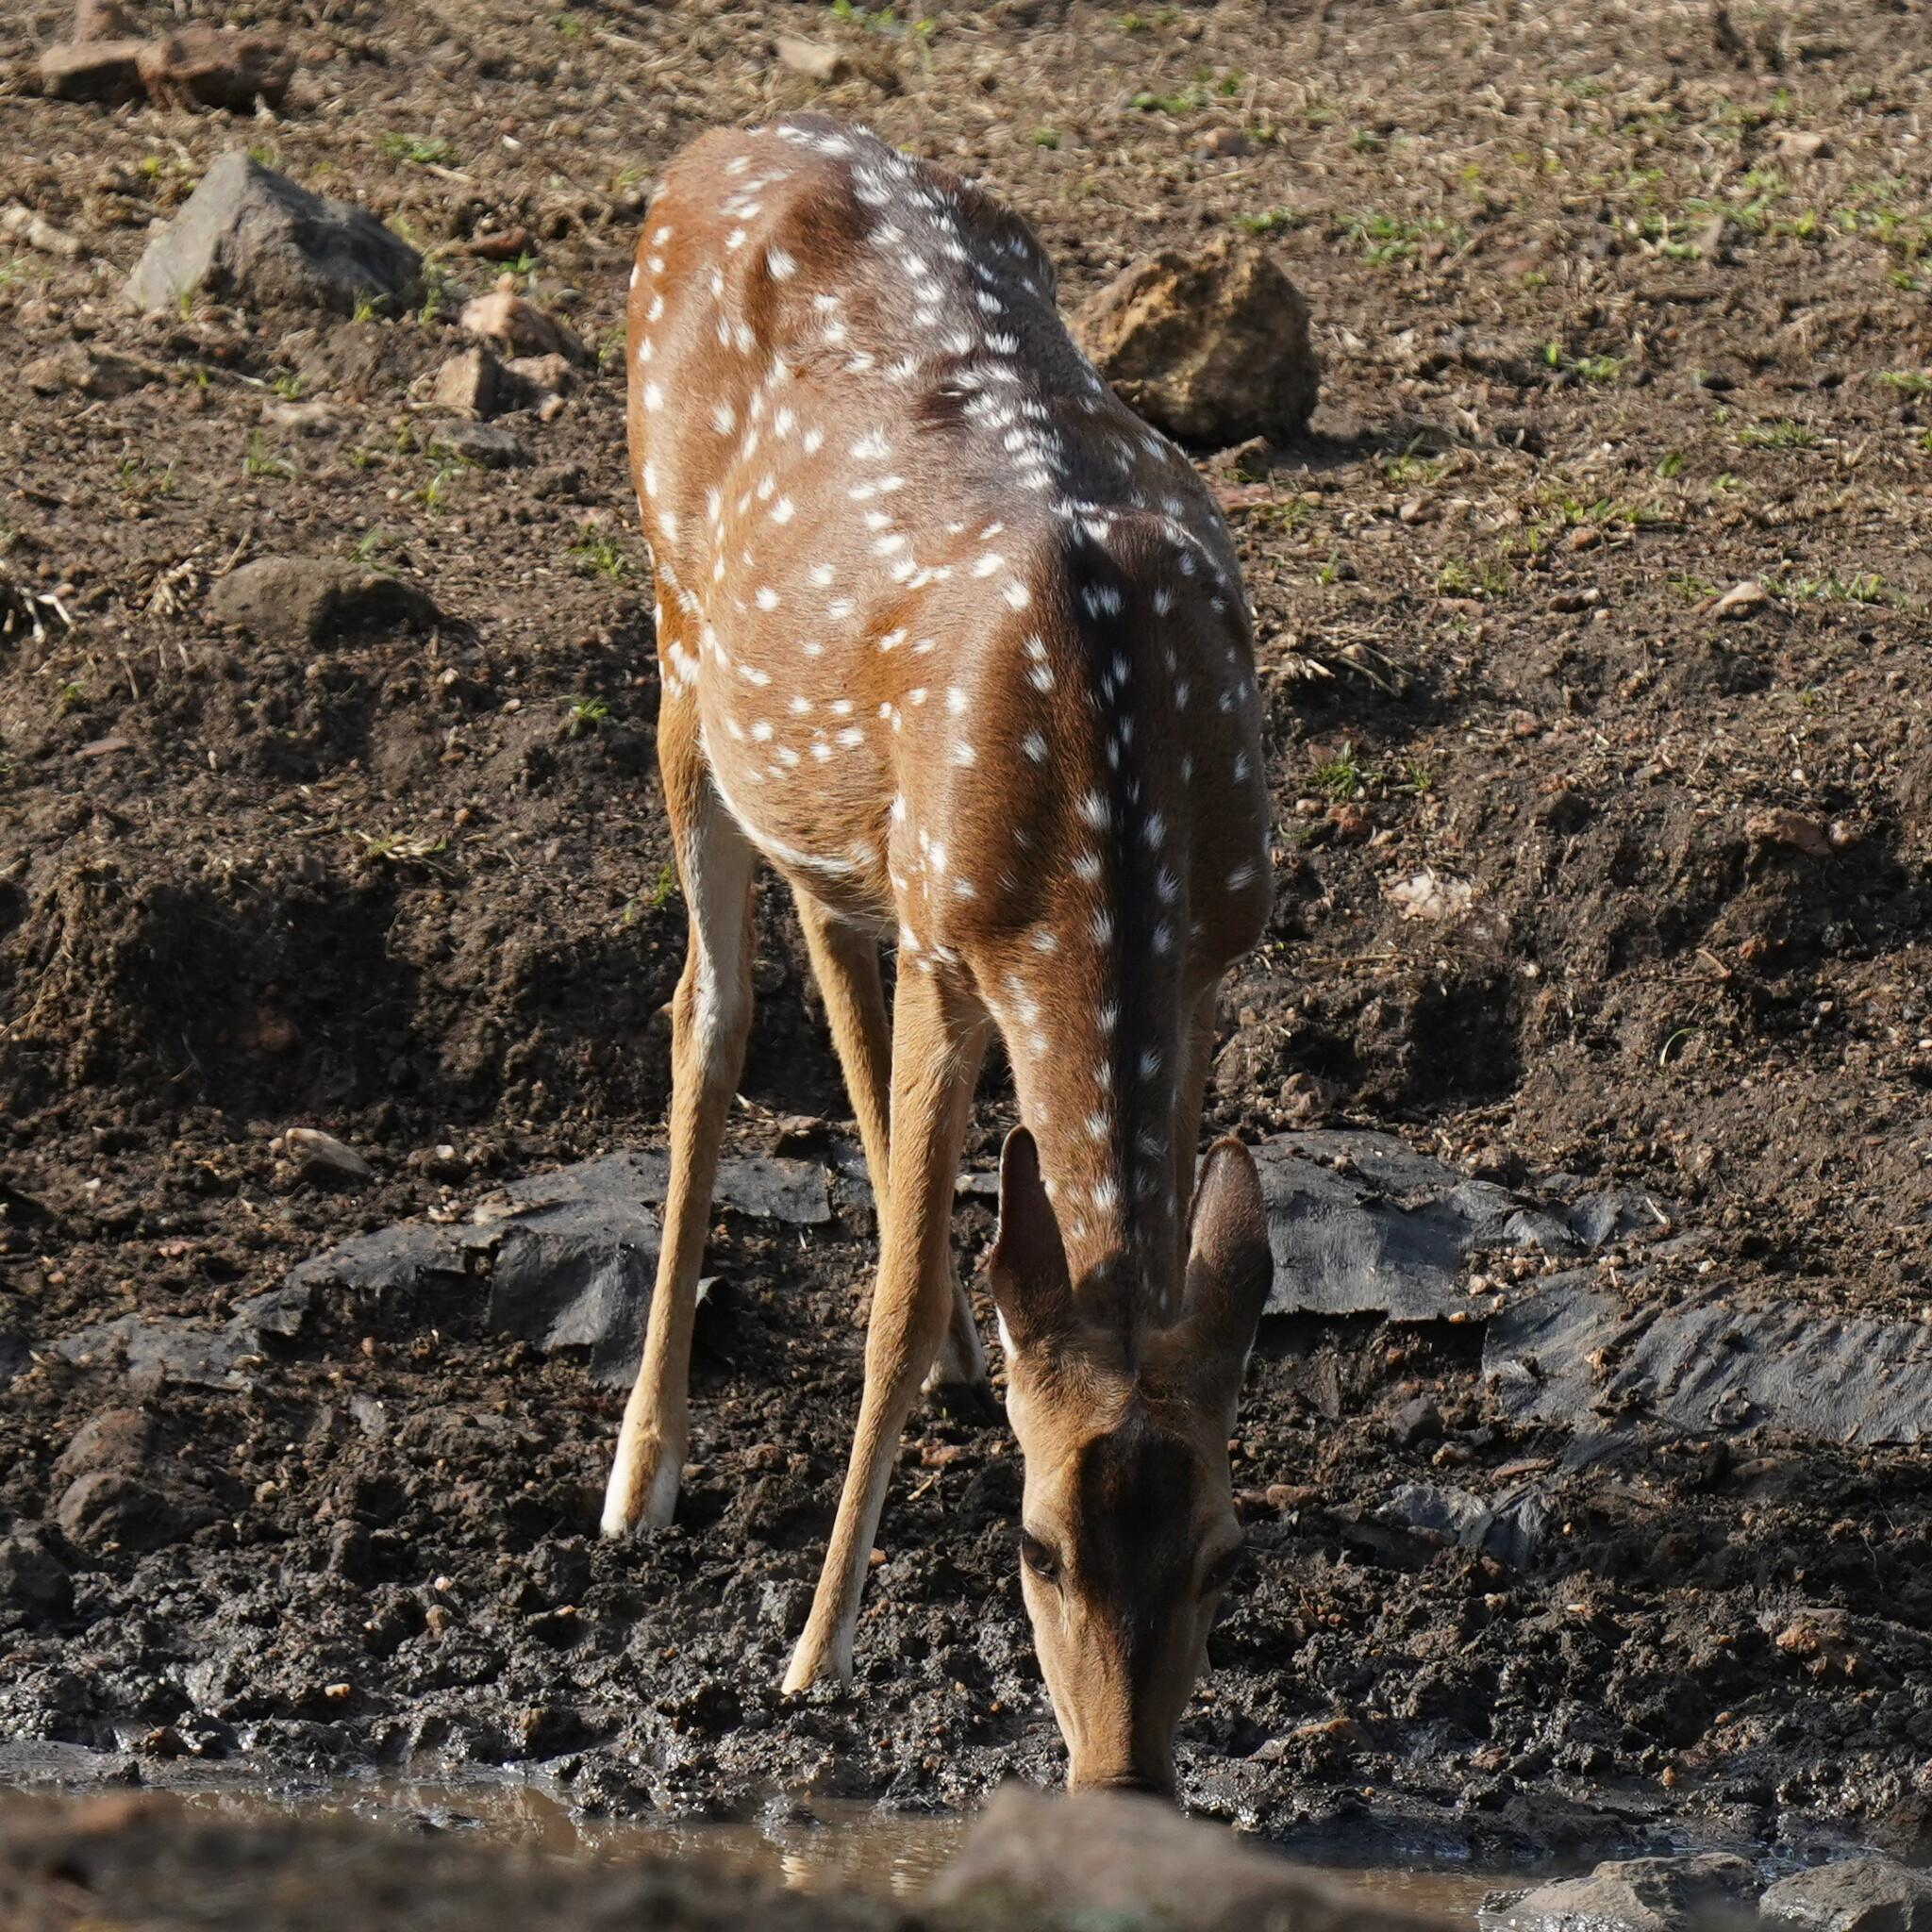Deer: (603, 111, 1272, 1794)
